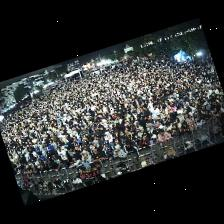person: (123, 141, 139, 163), (57, 147, 70, 167), (77, 141, 91, 156), (62, 139, 74, 156), (52, 154, 65, 169), (81, 151, 91, 170), (92, 148, 105, 161), (113, 145, 125, 158), (157, 130, 170, 142), (149, 104, 159, 119), (129, 129, 138, 145), (91, 141, 102, 154), (179, 121, 190, 134), (46, 158, 58, 169), (139, 135, 149, 148), (44, 142, 54, 155), (104, 132, 113, 146), (38, 160, 49, 171), (90, 127, 100, 139), (71, 154, 81, 166), (170, 123, 179, 136), (163, 114, 173, 125), (185, 113, 194, 125), (202, 110, 210, 123), (176, 110, 184, 123), (113, 138, 122, 149), (93, 135, 102, 146), (105, 146, 112, 160), (49, 139, 56, 153), (195, 115, 202, 129), (98, 125, 105, 139), (119, 131, 127, 143), (160, 108, 168, 120), (39, 148, 46, 161), (146, 116, 155, 126), (149, 135, 158, 145), (163, 122, 171, 133), (102, 141, 108, 155), (142, 130, 151, 139), (209, 111, 216, 122), (25, 165, 33, 174), (137, 127, 143, 139), (146, 124, 153, 134), (37, 152, 44, 162), (152, 124, 158, 135), (114, 115, 121, 124), (95, 175, 104, 182), (155, 121, 162, 129), (125, 126, 130, 137), (24, 150, 29, 161), (175, 118, 180, 128), (182, 110, 187, 120), (27, 161, 33, 168), (19, 167, 25, 174)
